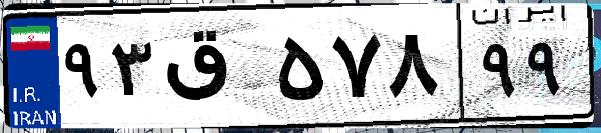3: (110, 28, 158, 98)
5: (270, 28, 330, 110)
7: (330, 28, 385, 110)
8: (385, 28, 445, 110)
9: (57, 26, 110, 100), (475, 38, 525, 113), (525, 38, 570, 115)
ق: (158, 20, 270, 120)
